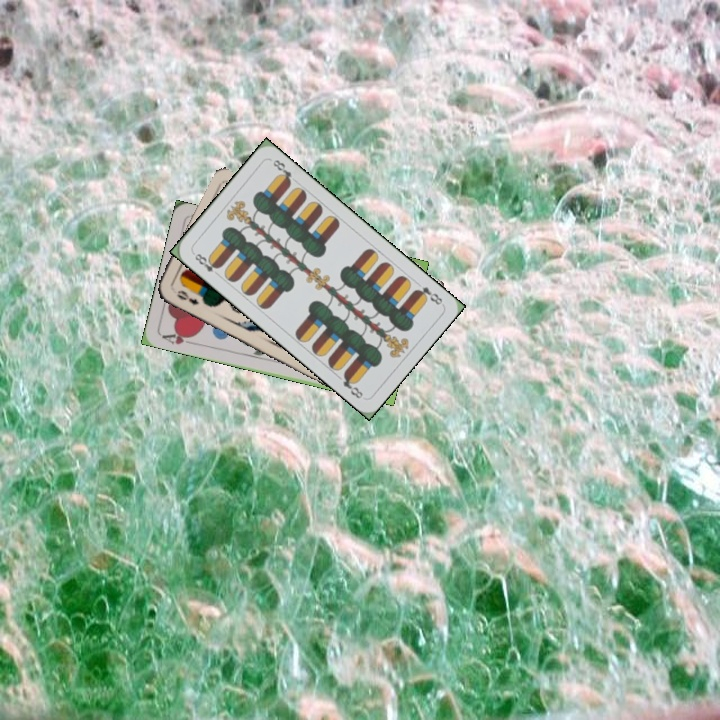E8: (189, 248, 223, 279), (410, 282, 445, 308)
EO: (172, 286, 201, 307)
HA: (158, 327, 198, 348)
